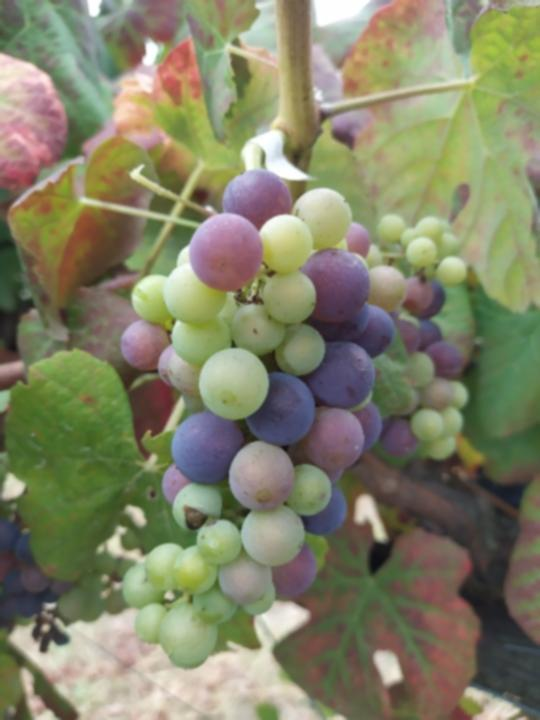grape: (117, 166, 398, 672)
